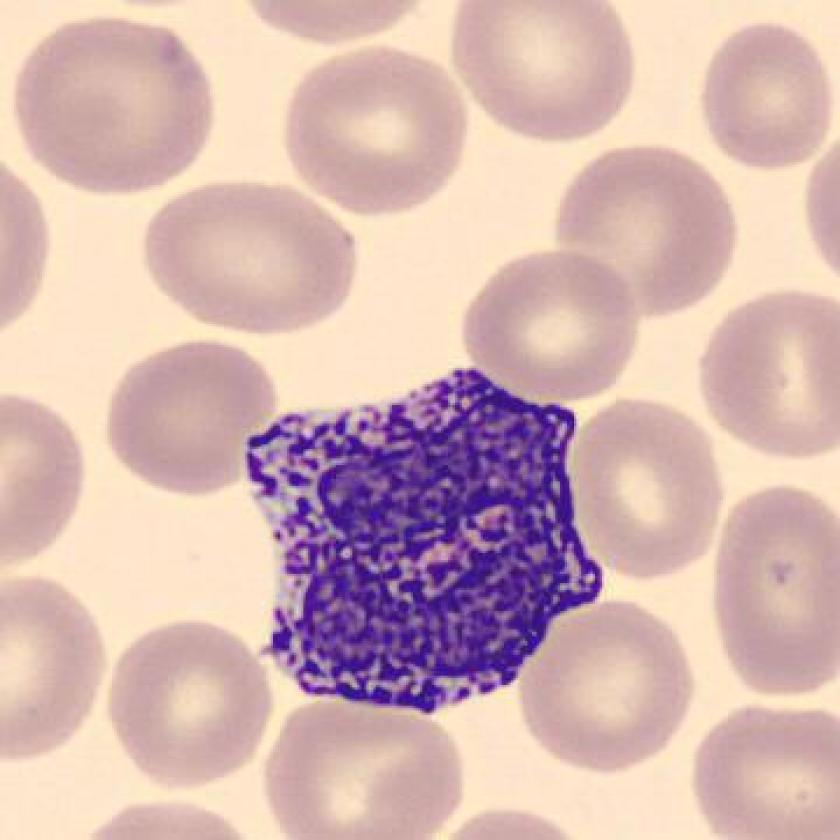basophil: (246, 362, 608, 711)
